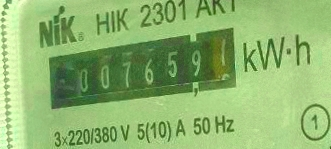0: (77, 64, 90, 92), (98, 62, 111, 89)
1: (216, 37, 229, 68)
5: (164, 48, 179, 80)
6: (142, 55, 155, 86)
7: (119, 56, 133, 89)
9: (188, 45, 204, 79)
screen: (34, 18, 256, 116)
